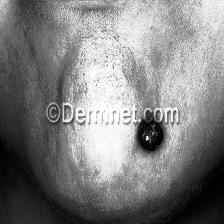Benign Marking or Mole: (137, 118, 165, 152)
